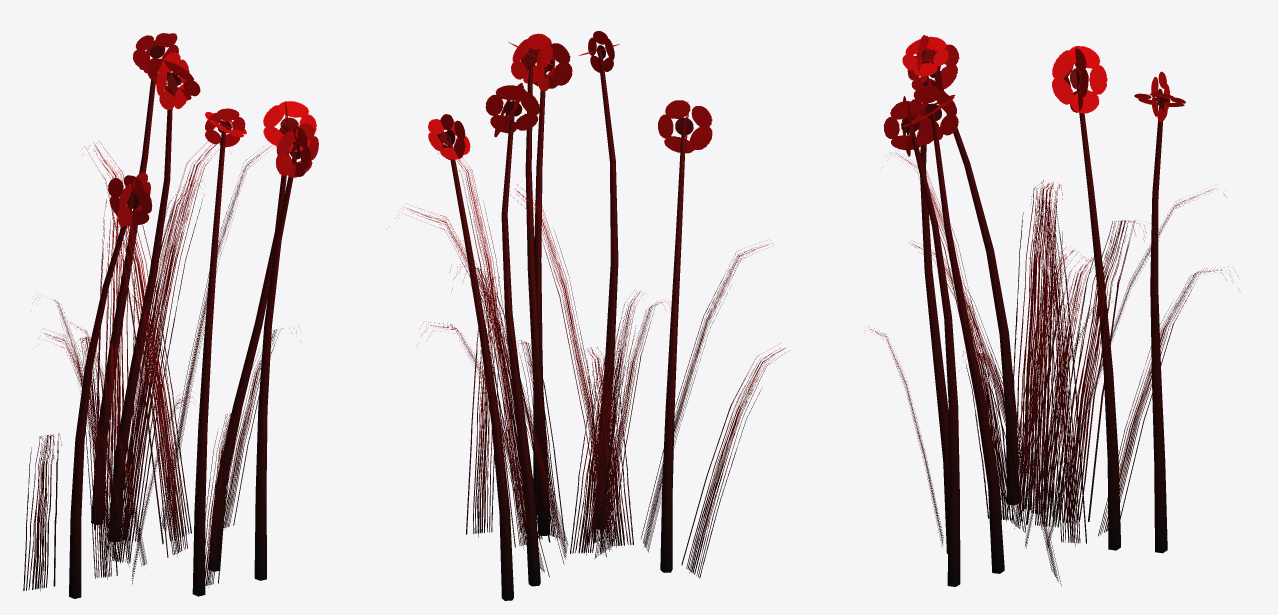
File: plant_savanna_wildflower_a.glb
3 views of the same model, side by side, from view 1: azimuth 30°, elevation 25°; view 2: azimuth 150°, elevation 25°; view 3: azimuth 270°, elevation 25° (orthographic). The views are drawn at different scales.
Visible parts, largest first — view 1: plant_savanna_wildflower_a; view 2: plant_savanna_wildflower_a; view 3: plant_savanna_wildflower_a.
Boxes of the visible parts, x1,y1,x2,y2 form: plant_savanna_wildflower_a: (23, 33, 318, 598); plant_savanna_wildflower_a: (386, 31, 789, 600); plant_savanna_wildflower_a: (864, 35, 1240, 586).
Bounding box in the file's own units: 0.3533 × 0.5101 × 0.3571.
1 material, 1 textured.
